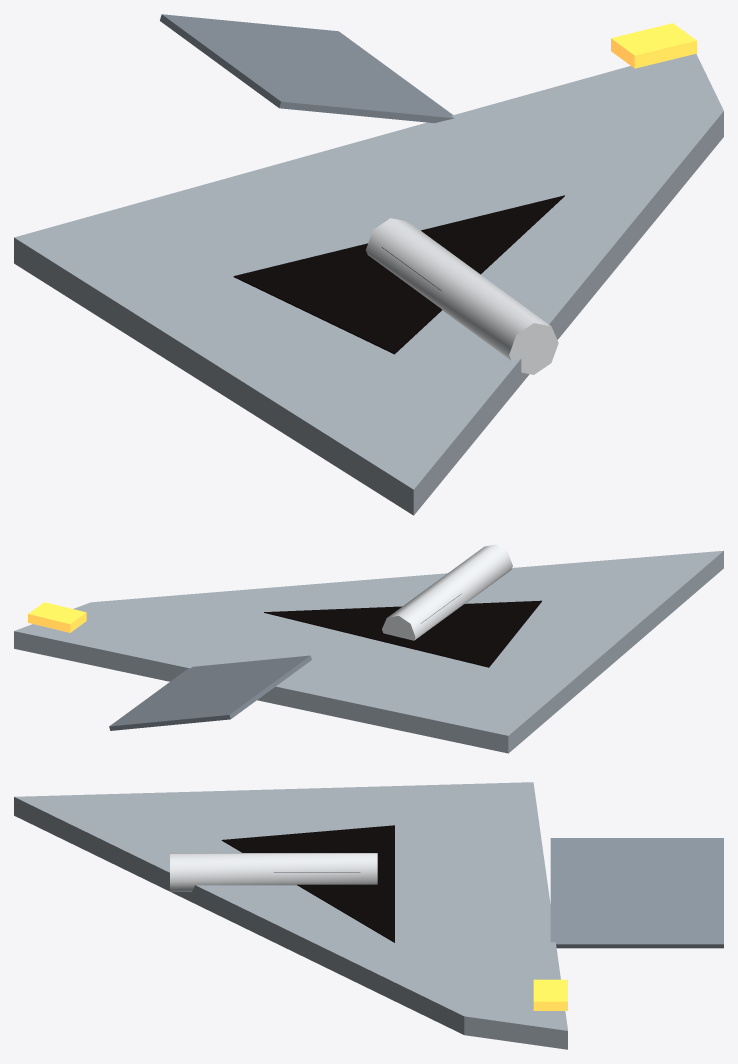
Rendered from debris_wing.glb.
3 renders of one model, top to bottom at view 1: azimuth 30°, elevation 25°; view 2: azimuth 150°, elevation 25°; view 3: azimuth 270°, elevation 25°, orthographic. The views are drawn at different scales.
Visible parts, largest first — view 1: wing, fin_m, wing_scorch, rocket_stub, hot; view 2: wing, wing_scorch, fin_m, rocket_stub, hot; view 3: wing, fin_m, wing_scorch, rocket_stub, hot.
Part boxes in pixels (x1=…): wing: x1=14, y1=54, x2=723, y2=515; fin_m: x1=160, y1=14, x2=453, y2=123; wing_scorch: x1=233, y1=195, x2=564, y2=354; rocket_stub: x1=366, y1=218, x2=558, y2=374; hot: x1=611, y1=23, x2=696, y2=68; wing: x1=14, y1=550, x2=723, y2=753; wing_scorch: x1=264, y1=600, x2=541, y2=667; fin_m: x1=109, y1=655, x2=311, y2=730; rocket_stub: x1=382, y1=544, x2=512, y2=640; hot: x1=28, y1=602, x2=86, y2=632; wing: x1=14, y1=782, x2=567, y2=1049; fin_m: x1=550, y1=838, x2=723, y2=948; wing_scorch: x1=221, y1=825, x2=394, y2=942; rocket_stub: x1=170, y1=853, x2=377, y2=891; hot: x1=533, y1=979, x2=567, y2=1010.
Bounding box in the file's own units: 3.4 × 0.3924 × 4.1.
